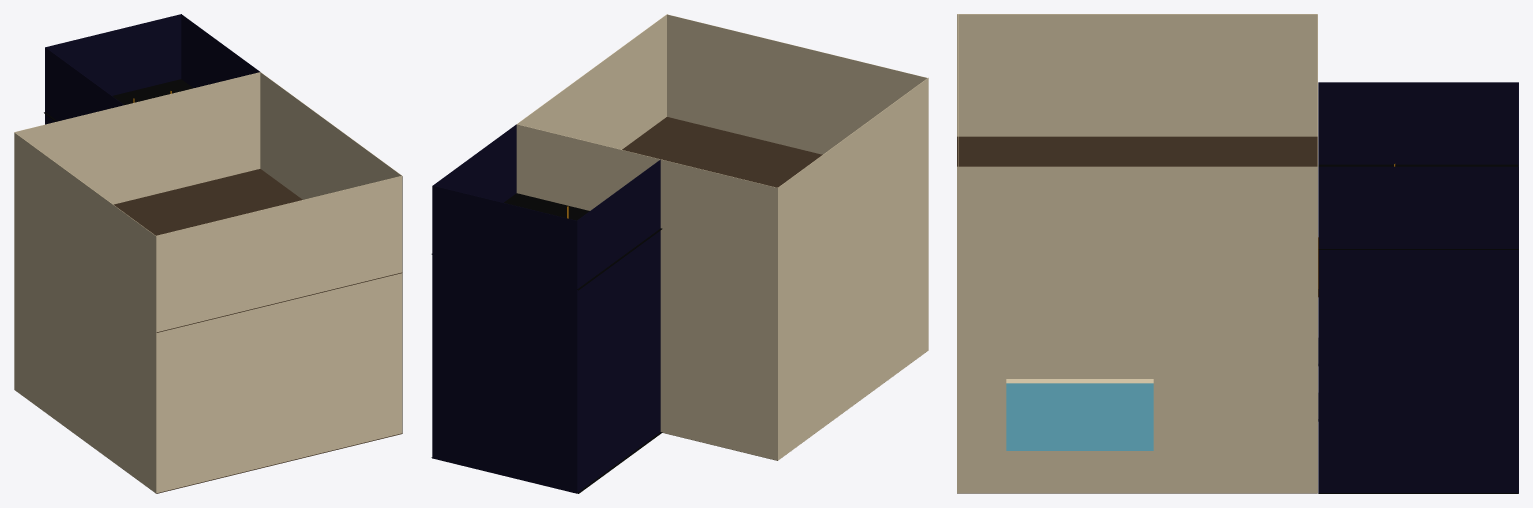
File: roomv3.fbx
3 views of the same model, side by side, from view 1: azimuth 30°, elevation 25°; view 2: azimuth 150°, elevation 25°; view 3: azimuth 270°, elevation 25° (orthographic). The views are drawn at different scales.
Parts seen in each view (by area): view 1: Cube.018, Cube.022, Cube.021, Cube.019, FoodWallBack, cieling, FoodWallLeft, FoodWallRight, FoodWallTop; view 2: Cube.022, FoodWallBack, Cube.021, FoodWallLeft, Cube.018, Cube.019, cieling, FoodWallRight, FoodWallTop; view 3: Cube.019, FoodWallRight, Cube.022, FoodWallLeft, cieling, FoodWallTop.
Boxes of the visible parts, x1=… form: Cube.018: x1=156, y1=176, x2=401, y2=492; Cube.022: x1=14, y1=132, x2=156, y2=493; Cube.021: x1=14, y1=72, x2=260, y2=204; Cube.019: x1=260, y1=72, x2=402, y2=433; FoodWallBack: x1=45, y1=14, x2=181, y2=124; cieling: x1=114, y1=169, x2=402, y2=332; FoodWallLeft: x1=45, y1=47, x2=124, y2=124; FoodWallRight: x1=181, y1=14, x2=259, y2=87; FoodWallTop: x1=44, y1=79, x2=193, y2=121; Cube.022: x1=777, y1=77, x2=928, y2=460; FoodWallBack: x1=432, y1=185, x2=577, y2=493; Cube.021: x1=517, y1=124, x2=777, y2=460; FoodWallLeft: x1=577, y1=159, x2=660, y2=492; Cube.018: x1=667, y1=14, x2=927, y2=154; Cube.019: x1=516, y1=14, x2=667, y2=192; cieling: x1=622, y1=117, x2=822, y2=187; FoodWallRight: x1=433, y1=124, x2=516, y2=202; FoodWallTop: x1=431, y1=193, x2=662, y2=290; Cube.019: x1=957, y1=166, x2=1317, y2=493; FoodWallRight: x1=1318, y1=166, x2=1518, y2=492; Cube.022: x1=957, y1=14, x2=1317, y2=136; FoodWallLeft: x1=1318, y1=82, x2=1518, y2=164; cieling: x1=957, y1=136, x2=1317, y2=166; FoodWallTop: x1=1318, y1=164, x2=1518, y2=249.
Bounding box in the file's own units: 16519 × 16046 × 24940.
